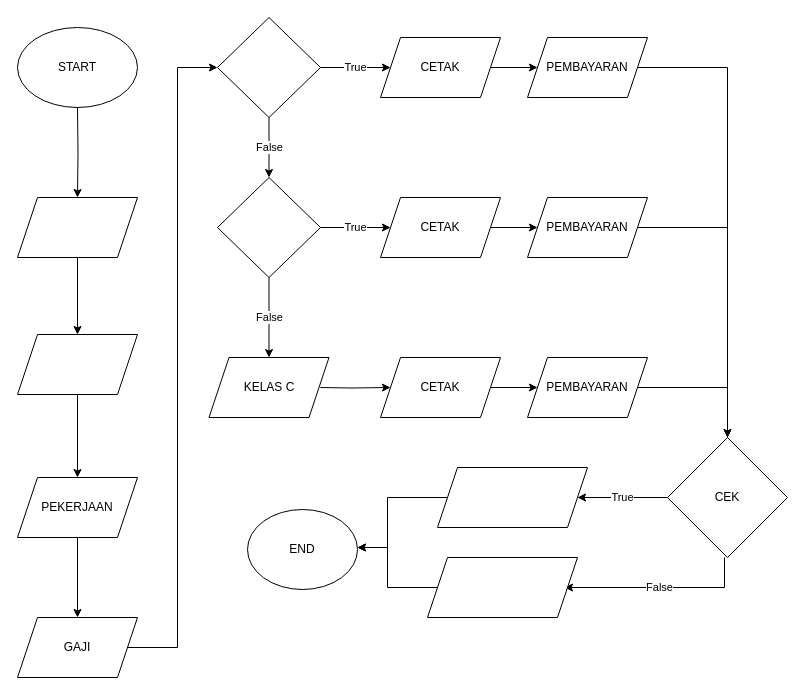
The diagram is 805 pixels wide and 695 high, and some of its shapes have lost their labels. Here are the shapes that lost their labels. From the top down, the box of each, then its label:
(216, 16, 320, 118): KELAS A
(16, 196, 138, 258): NAMA
(216, 176, 320, 278): KELAS B
(16, 334, 138, 394): STATUS
(436, 466, 588, 528): PEMBAYARAN BERHASIL
(426, 556, 578, 618): PEMBAYARAN GAGL
